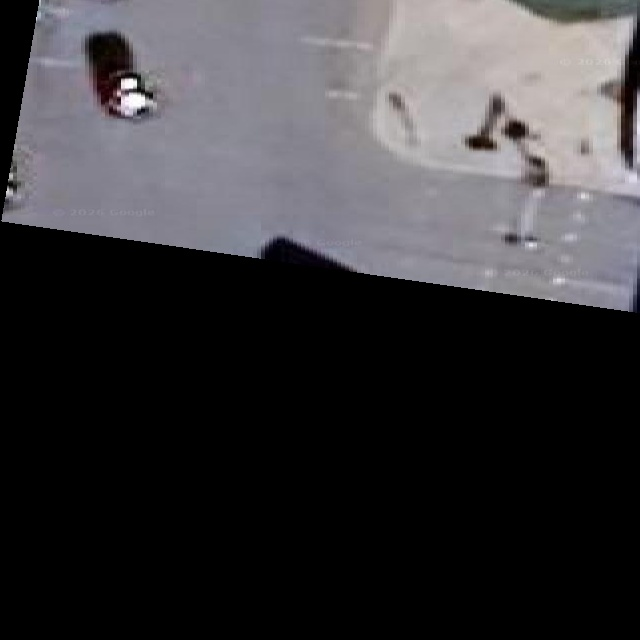car: (84, 32, 157, 119)
